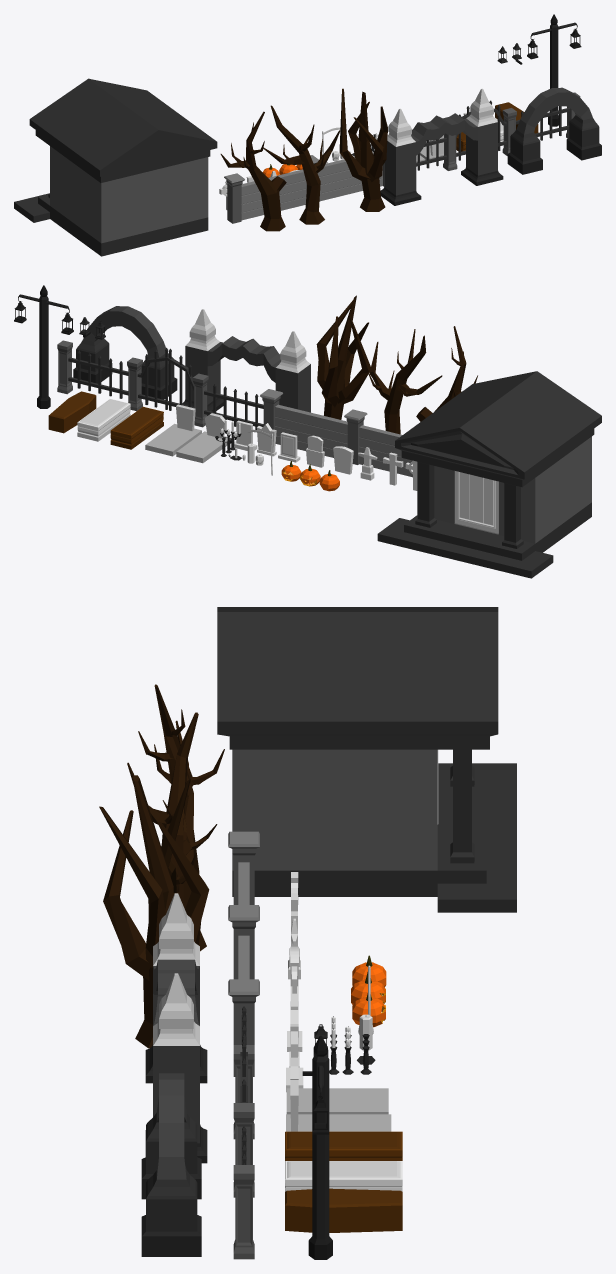
Rendered from Low Poly Cemetary.fbx.
The picture shows the model from 3 angles, top to bottom: view 1: azimuth 30°, elevation 25°; view 2: azimuth 150°, elevation 25°; view 3: azimuth 270°, elevation 25°; orthographic projection. The views are drawn at different scales.
Parts seen in each view (by area): view 1: Moseleum, Stone Arche 1, Stone Arche 2, Cemetary Tree 3, Stone Fence 1, Cemetary Tree 2, Cemetary Tree 1, Stone Fence 2, Lantern Post, Irone Fences 1, Irone Fences2; view 2: Moseleum, Stone Arche 1, Stone Arche 2, Cemetary Tree 3, Stone Fence 2, Irone Fences 1, Moseleum Door, Stone Fence 1, Cemetary Tree 2, Lantern Post, Irone Fences2, Headstone 10 (+15 smaller); view 3: Moseleum, Stone Arche 1, Stone Arche 2, Cemetary Tree 3, Lantern Post, Stone Fence 1, Irone Fences 1, Cemetary Tree 1, Cemetary Tree 2, Coffin 2, Headstone 9, Coffin 3 Cover (+7 smaller).
Part boxes in pixels (box(x1,y1,x2,y2)): Moseleum: box(14, 78, 217, 256); Stone Arche 1: box(380, 88, 503, 205); Stone Arche 2: box(507, 87, 601, 174); Cemetary Tree 3: box(339, 88, 387, 211); Stone Fence 1: box(224, 155, 318, 223); Cemetary Tree 2: box(263, 105, 339, 224); Cemetary Tree 1: box(220, 111, 286, 231); Stone Fence 2: box(317, 139, 384, 201); Lantern Post: box(527, 14, 581, 126); Irone Fences 1: box(502, 92, 580, 155); Irone Fences2: box(416, 133, 457, 170); Moseleum: box(377, 371, 601, 578); Stone Arche 1: box(182, 309, 310, 415); Stone Arche 2: box(73, 306, 177, 399); Cemetary Tree 3: box(316, 295, 370, 419); Stone Fence 2: box(260, 389, 347, 457); Irone Fences 1: box(57, 340, 142, 411); Moseleum Door: box(455, 471, 498, 533); Stone Fence 1: box(344, 409, 412, 477); Cemetary Tree 2: box(368, 329, 442, 434); Lantern Post: box(14, 285, 73, 408); Irone Fences2: box(192, 373, 263, 429); Headstone 10: box(145, 404, 201, 456); Moseleum: box(217, 607, 516, 912); Stone Arche 1: box(145, 893, 207, 1163); Stone Arche 2: box(141, 1073, 201, 1256); Cemetary Tree 3: box(99, 775, 209, 1048); Lantern Post: box(308, 1035, 332, 1259); Stone Fence 1: box(228, 831, 259, 979); Irone Fences 1: box(233, 1103, 254, 1259); Cemetary Tree 1: box(138, 684, 224, 951); Cemetary Tree 2: box(127, 712, 217, 906); Coffin 2: box(285, 1206, 402, 1232); Headstone 9: box(286, 1057, 388, 1114); Coffin 3 Cover: box(285, 1131, 402, 1151).
Size of the model in its own units: 36.01 by 8.31 by 12.63.
